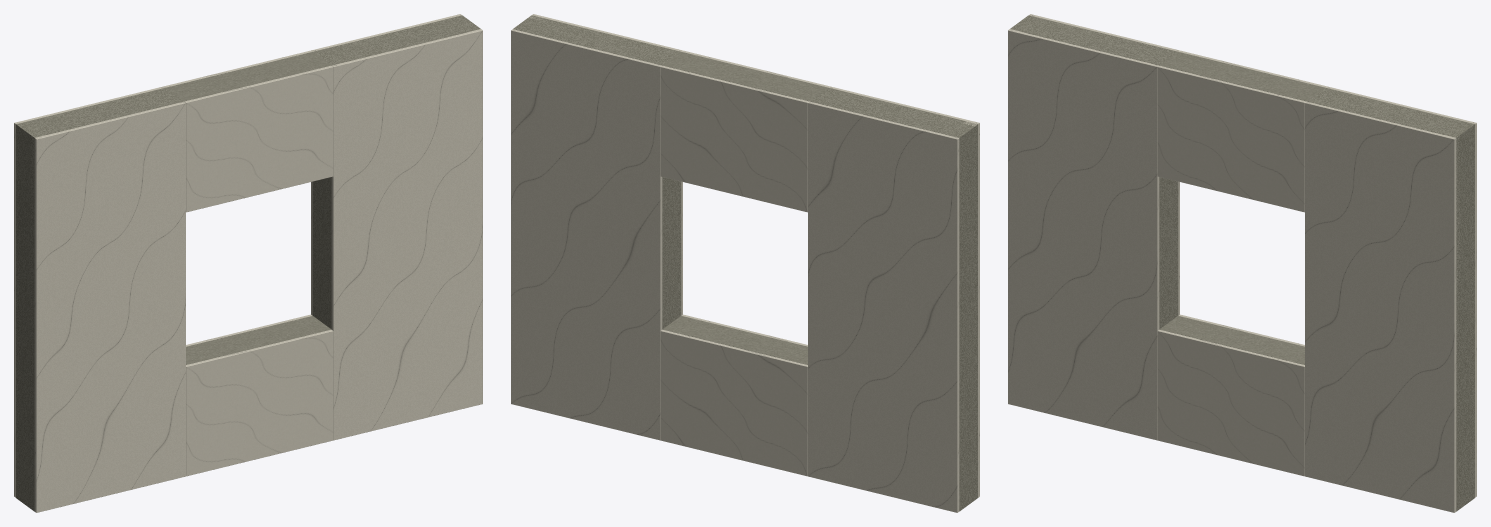
The picture shows the model from 3 angles, left to right: view 1: azimuth 30°, elevation 25°; view 2: azimuth 150°, elevation 25°; view 3: azimuth 330°, elevation 25°; orthographic projection.
Visible parts, largest first — view 1: Replaceable marble facing panel, Replaceable marble facing panel.002, Replaceable marble facing panel.006, Replaceable marble facing panel.004, Bearing masonry wall segment, Bearing masonry wall segment.001, Bearing masonry wall segment.003, Bearing masonry wall segment.002, Replaceable marble facing panel.001, Replaceable marble facing panel.003; view 2: Replaceable marble facing panel.001, Replaceable marble facing panel.003, Replaceable marble facing panel.007, Replaceable marble facing panel.005, Bearing masonry wall segment, Bearing masonry wall segment.001, Bearing masonry wall segment.003, Bearing masonry wall segment.002, Replaceable marble facing panel, Replaceable marble facing panel.002; view 3: Replaceable marble facing panel.002, Replaceable marble facing panel, Replaceable marble facing panel.006, Replaceable marble facing panel.004, Bearing masonry wall segment.001, Bearing masonry wall segment, Bearing masonry wall segment.003, Bearing masonry wall segment.002, Replaceable marble facing panel.003, Replaceable marble facing panel.001.
Part boxes in pixels (x1,y1,x2,y2): Replaceable marble facing panel: (34,101,185,512); Replaceable marble facing panel.002: (331,29,482,440); Replaceable marble facing panel.006: (184,65,333,212); Replaceable marble facing panel.004: (186,329,333,476); Bearing masonry wall segment: (16,87,183,511); Bearing masonry wall segment.001: (312,15,480,329); Bearing masonry wall segment.003: (166,52,331,101); Bearing masonry wall segment.002: (186,316,331,364); Replaceable marble facing panel.001: (14,86,164,497); Replaceable marble facing panel.003: (311,14,461,315); Replaceable marble facing panel.001: (808,101,959,512); Replaceable marble facing panel.003: (511,29,662,440); Replaceable marble facing panel.007: (660,65,809,212); Replaceable marble facing panel.005: (660,329,807,476); Bearing masonry wall segment: (810,87,977,511); Bearing masonry wall segment.001: (513,15,681,329); Bearing masonry wall segment.003: (662,52,827,101); Bearing masonry wall segment.002: (662,316,807,364); Replaceable marble facing panel: (829,86,979,497); Replaceable marble facing panel.002: (532,14,682,315); Replaceable marble facing panel.002: (1305,101,1456,512); Replaceable marble facing panel: (1008,29,1159,440); Replaceable marble facing panel.006: (1157,65,1306,212); Replaceable marble facing panel.004: (1157,329,1304,476); Bearing masonry wall segment.001: (1307,87,1474,511); Bearing masonry wall segment: (1010,15,1178,329); Bearing masonry wall segment.003: (1159,52,1324,101); Bearing masonry wall segment.002: (1159,316,1304,364); Replaceable marble facing panel.003: (1326,86,1476,497); Replaceable marble facing panel.001: (1029,14,1179,315).
Bounding box in the file's own units: 4 × 3.2 × 0.35.
Materials: 2 (2 with a texture image).
